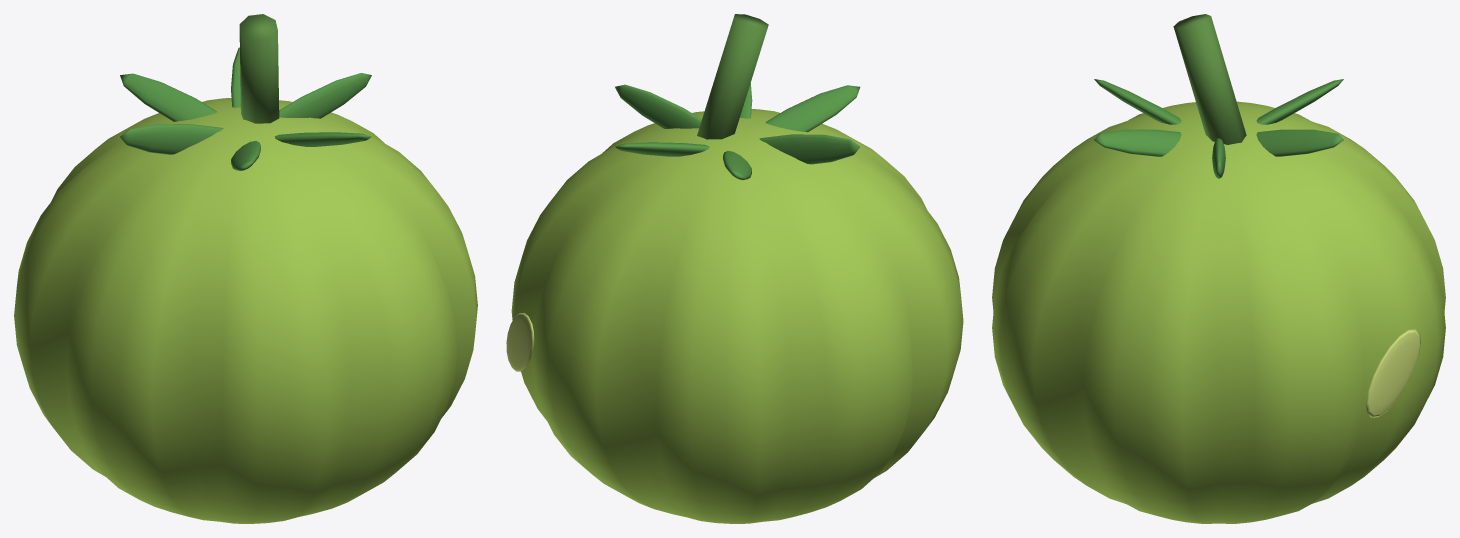
The model's file is tomato_lite_unripe.glb.
The picture shows the model from 3 angles, left to right: view 1: azimuth 30°, elevation 25°; view 2: azimuth 150°, elevation 25°; view 3: azimuth 270°, elevation 25°; orthographic projection. The views are drawn at different scales.
Parts seen in each view (by area): view 1: grooved_tomato_body, stem, sepal.002, sepal.003, sepal, sepal.005, sepal.004; view 2: grooved_tomato_body, stem, sepal.004, sepal.003, sepal, unripe_patch_0, sepal.001, sepal.002; view 3: grooved_tomato_body, stem, unripe_patch_0, sepal.005, sepal.001, sepal.002, sepal.004.
Boxes of the visible parts, bbox=[...] form: grooved_tomato_body: bbox=[14, 98, 477, 523]; stem: bbox=[239, 14, 279, 123]; sepal.002: bbox=[120, 73, 216, 121]; sepal.003: bbox=[120, 124, 223, 154]; sepal: bbox=[279, 73, 371, 118]; sepal.005: bbox=[274, 132, 371, 146]; sepal.004: bbox=[231, 141, 260, 170]; grooved_tomato_body: bbox=[511, 109, 963, 523]; stem: bbox=[697, 14, 768, 139]; sepal.004: bbox=[765, 85, 860, 132]; sepal.003: bbox=[759, 134, 859, 164]; sepal: bbox=[615, 84, 701, 128]; unripe_patch_0: bbox=[506, 313, 534, 371]; sepal.001: bbox=[615, 142, 709, 156]; sepal.002: bbox=[723, 150, 751, 179]; grooved_tomato_body: bbox=[992, 101, 1445, 523]; stem: bbox=[1173, 14, 1246, 144]; unripe_patch_0: bbox=[1366, 329, 1420, 417]; sepal.005: bbox=[1094, 129, 1181, 156]; sepal.001: bbox=[1256, 129, 1343, 156]; sepal.002: bbox=[1256, 79, 1343, 124]; sepal.004: bbox=[1094, 79, 1181, 124].
Size of the model in its own units: 1.97 by 2.32 by 1.97.
